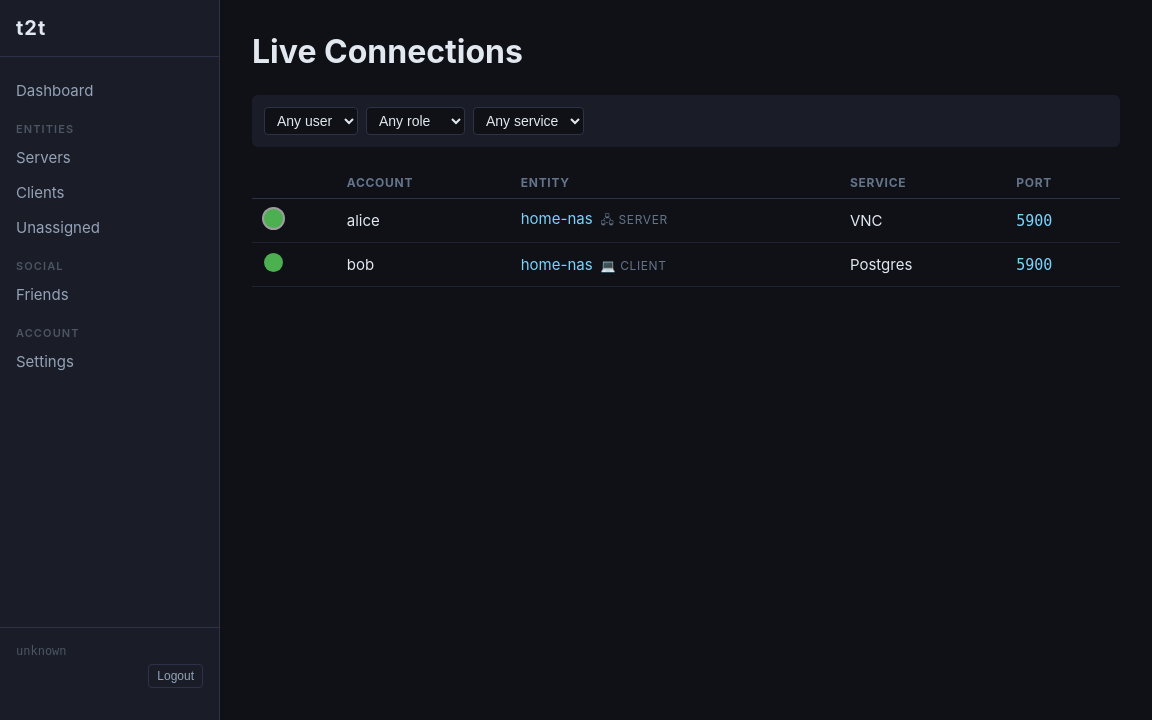
it: AdminLiveConnectionsPage › hides the Account column once filtered down to one exact account
This screenshot has width=1152, height=720.
Check: the table shows "Account", box x1=347 y1=175 x2=413 y2=190
Select "alice" in the 1st dropdown at [311, 121], box x1=264 y1=107 x2=358 y2=135
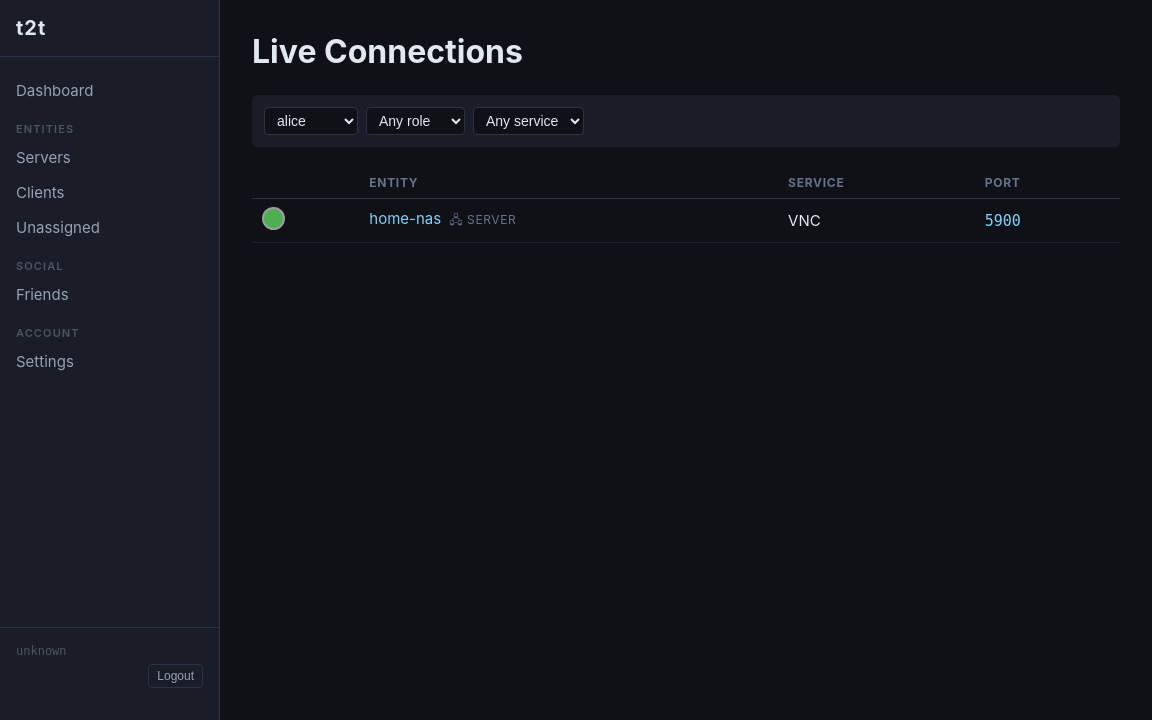
Check: the table does not show "Account"
Check: the cell no longer shows "bob"
